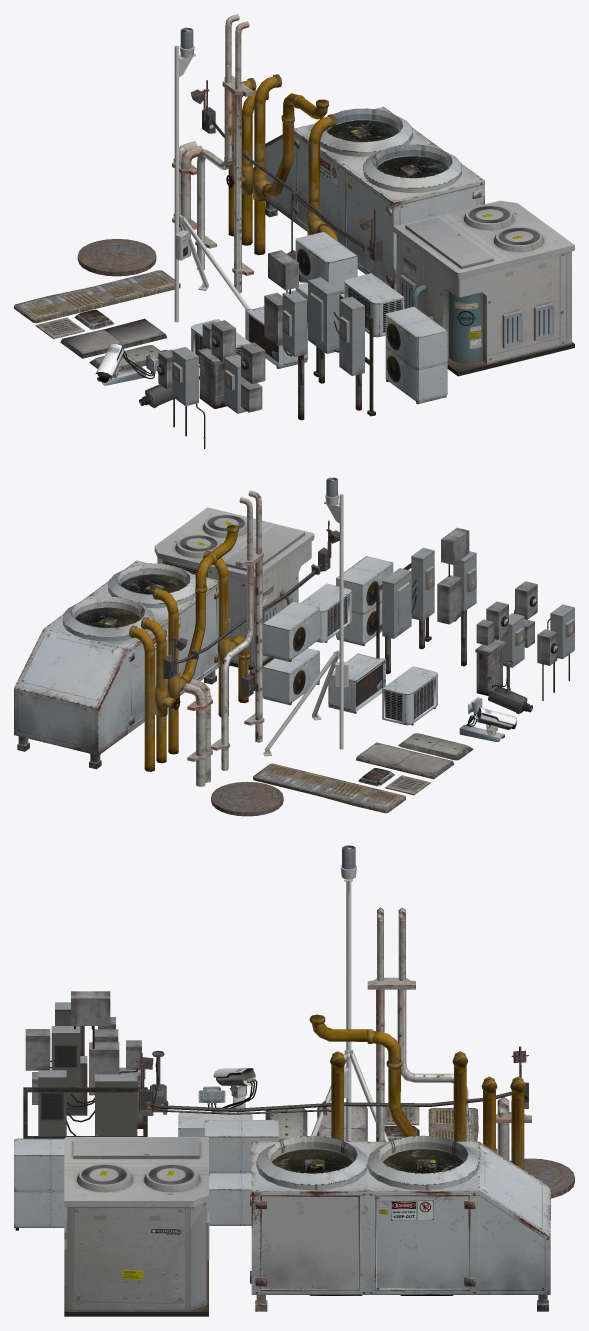
Rendered from Urban_communications.fbx.
3 renders of one model, top to bottom at view 1: azimuth 30°, elevation 25°; view 2: azimuth 150°, elevation 25°; view 3: azimuth 270°, elevation 25°, orthographic. The views are drawn at different scales.
Visible parts, largest first — view 1: SP_TNR_Roofbox_2, SP_TNR_Roofbox_1, SP_TNR_Aircon_4, SP_TNR_Cablebox_1, SP_TNR_Cablebox_3, SP_TNR_Pipes_2, SP_TNR_Pipes_5, SP_TNR_Cablebox_4, DL_TNR_RainDrain_2, SP_TNR_Roofpole_1, SP_TNR_Aircon_3, DL_TNR_RainDrain_3 (+13 smaller); view 2: SP_TNR_Roofbox_1, SP_TNR_Roofbox_2, SP_TNR_Aircon_3, SP_TNR_Aircon_4, SP_TNR_Pipes_2, SP_TNR_Cablebox_3, SP_TNR_Cablebox_1, SP_TNR_Pipes_5, SP_TNR_Cablebox_4, DL_TNR_RainDrain_2, SP_TNR_Roofpole_1, SP_TNR_Aircon_2 (+14 smaller); view 3: SP_TNR_Roofbox_1, SP_TNR_Roofbox_2, SP_TNR_Cablebox_1, SP_TNR_Aircon_3, SP_TNR_Aircon_4, SP_TNR_Cablebox_4, SP_TNR_Pipes_2, SP_TNR_Pipes_5, SP_TNR_Cablebox_3, SP_TNR_Cables_1, SP_TNR_Roofpole_1, DP_BSN_CCTV_1 (+10 smaller).
Part boxes in pixels (bbox=[...]): SP_TNR_Roofbox_2: bbox=[393, 200, 574, 376]; SP_TNR_Roofbox_1: bbox=[265, 106, 484, 291]; SP_TNR_Aircon_4: bbox=[344, 273, 447, 404]; SP_TNR_Cablebox_1: bbox=[308, 277, 375, 416]; SP_TNR_Cablebox_3: bbox=[197, 320, 265, 413]; SP_TNR_Pipes_2: bbox=[195, 14, 253, 293]; SP_TNR_Pipes_5: bbox=[253, 74, 328, 255]; SP_TNR_Cablebox_4: bbox=[264, 250, 307, 420]; DL_TNR_RainDrain_2: bbox=[14, 270, 180, 323]; SP_TNR_Roofpole_1: bbox=[174, 27, 249, 322]; SP_TNR_Aircon_3: bbox=[295, 231, 357, 326]; DL_TNR_RainDrain_3: bbox=[77, 239, 156, 276]; SP_TNR_Roofbox_1: bbox=[14, 560, 218, 769]; SP_TNR_Roofbox_2: bbox=[154, 507, 314, 670]; SP_TNR_Aircon_3: bbox=[262, 601, 319, 705]; SP_TNR_Aircon_4: bbox=[300, 556, 393, 645]; SP_TNR_Pipes_2: bbox=[211, 490, 264, 770]; SP_TNR_Cablebox_3: bbox=[475, 581, 537, 695]; SP_TNR_Cablebox_1: bbox=[376, 547, 434, 674]; SP_TNR_Pipes_5: bbox=[152, 525, 238, 754]; SP_TNR_Cablebox_4: bbox=[437, 527, 476, 666]; DL_TNR_RainDrain_2: bbox=[253, 763, 405, 813]; SP_TNR_Roofpole_1: bbox=[263, 477, 348, 756]; SP_TNR_Aircon_2: bbox=[382, 666, 437, 725]; SP_TNR_Roofbox_1: bbox=[250, 1135, 550, 1311]; SP_TNR_Roofbox_2: bbox=[64, 1137, 209, 1316]; SP_TNR_Cablebox_1: bbox=[23, 1070, 147, 1138]; SP_TNR_Aircon_3: bbox=[204, 1120, 278, 1225]; SP_TNR_Aircon_4: bbox=[14, 1138, 66, 1230]; SP_TNR_Cablebox_4: bbox=[51, 991, 119, 1104]; SP_TNR_Pipes_2: bbox=[367, 907, 468, 1141]; SP_TNR_Pipes_5: bbox=[309, 1014, 467, 1141]; SP_TNR_Cablebox_3: bbox=[25, 1029, 145, 1128]; SP_TNR_Cables_1: bbox=[136, 1046, 528, 1115]; SP_TNR_Roofpole_1: bbox=[311, 845, 388, 1141]; DP_BSN_CCTV_1: bbox=[198, 1068, 257, 1111].
Bounding box in the file's own units: 647 × 444 × 687.
